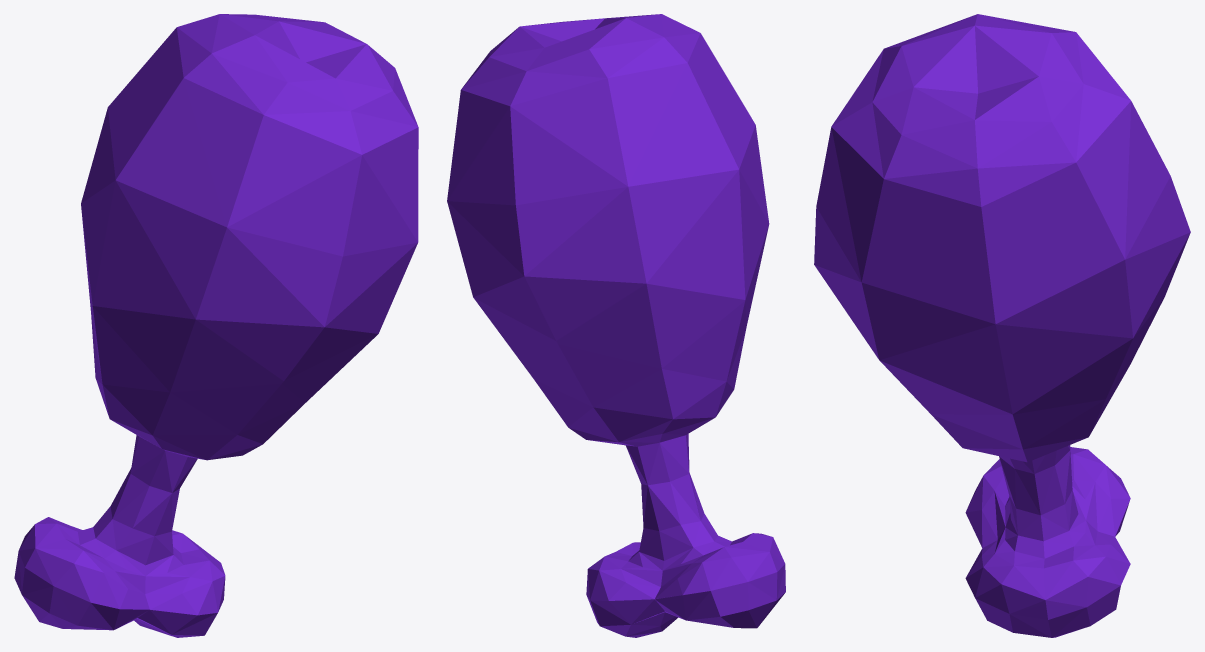
The model's file is ArmadilloMeat.fbx.
3 renders of one model, left to right at view 1: azimuth 30°, elevation 25°; view 2: azimuth 150°, elevation 25°; view 3: azimuth 270°, elevation 25°, orthographic. The views are drawn at different scales.
Visible parts, largest first — view 1: Box001; view 2: Box001; view 3: Box001.
Part boxes in pixels (left/top/right/bottom): Box001: left=14, top=14, right=418, bottom=637; Box001: left=447, top=14, right=785, bottom=637; Box001: left=814, top=14, right=1190, bottom=637.
Bounding box in the file's own units: 17.16 × 28.74 × 15.4.
